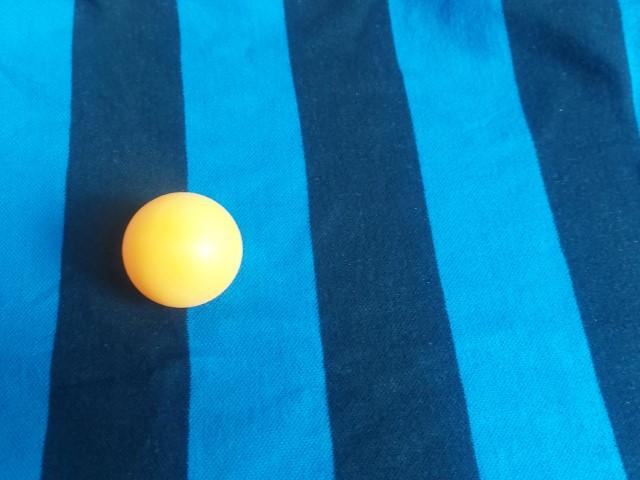oball: (392, 162, 522, 295)
